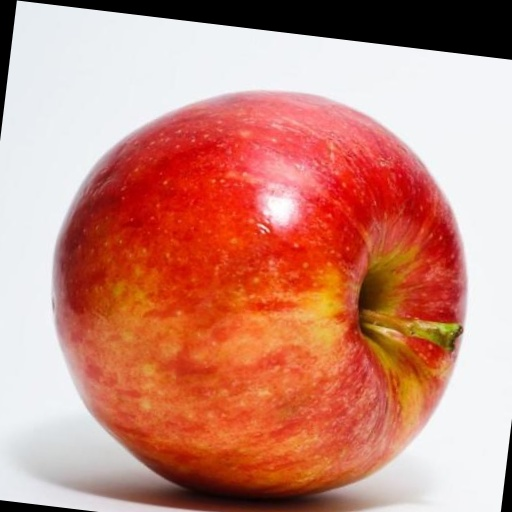fruit: (53, 92, 465, 497)
